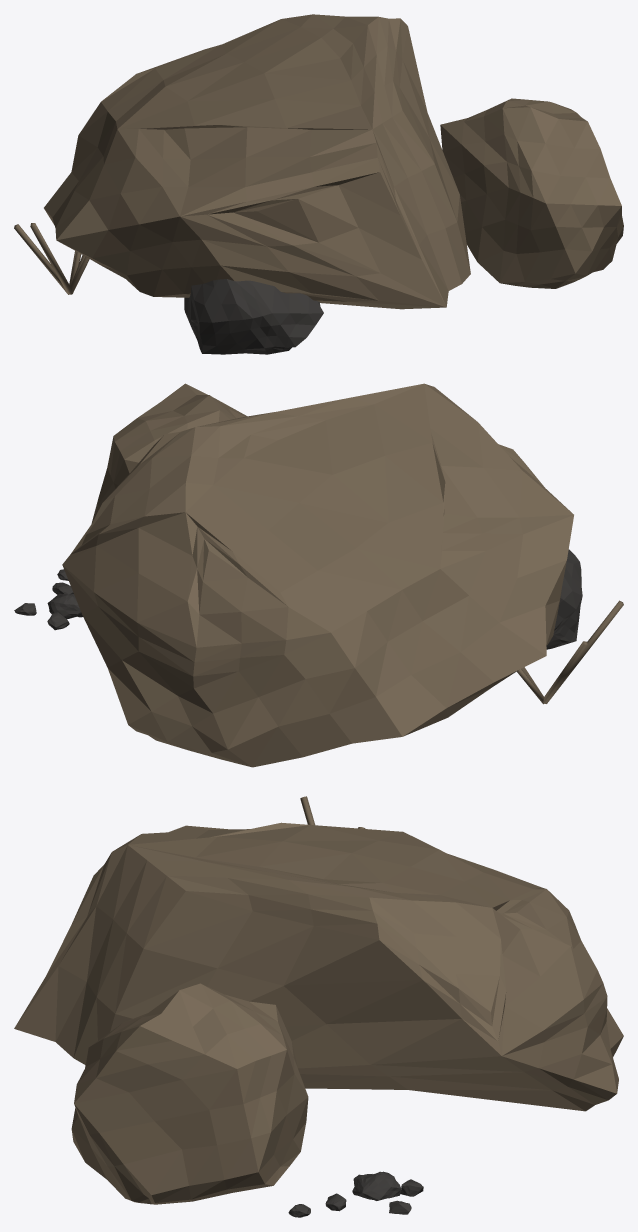
The model's file is cover_rock_3.glb.
3 renders of one model, top to bottom at view 1: azimuth 30°, elevation 25°; view 2: azimuth 150°, elevation 25°; view 3: azimuth 270°, elevation 25°, orthographic. The views are drawn at different scales.
Parts seen in each view (by area): view 1: rock_0, rock_1, rock_2, weed_3, weed_1; view 2: rock_0, rock_1, rock_2, grit_5, weed_3; view 3: rock_0, rock_1, grit_5.
Part boxes in pixels (<box>): rock_0: <box>44,14,470,309</box>; rock_1: <box>440,98,623,288</box>; rock_2: <box>184,279,323,354</box>; weed_3: <box>30,223,72,294</box>; weed_1: <box>14,224,68,294</box>; rock_0: <box>62,383,573,767</box>; rock_1: <box>91,383,246,523</box>; rock_2: <box>546,549,582,649</box>; grit_5: <box>47,594,81,619</box>; weed_3: <box>546,600,623,703</box>; rock_0: <box>14,822,623,1111</box>; rock_1: <box>71,983,308,1204</box>; grit_5: <box>352,1171,401,1200</box>.
Bounding box in the file's own units: 2.39 × 0.9158 × 2.06.
